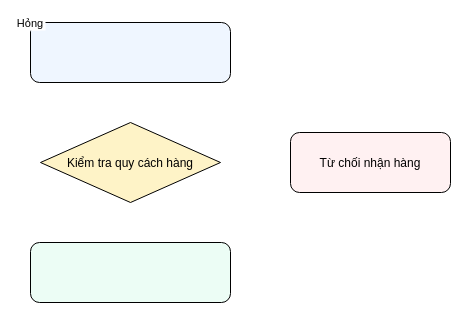
This 467x319 diagram has some shape labels left out. Each missing label, with the box of its shape:
Chỉ định vị trí kệ kho: (30, 242, 230, 302)
Lập phiếu nhập kho: (30, 22, 230, 82)
